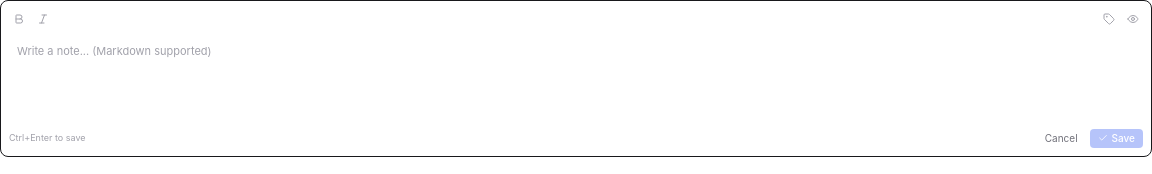
it: NoteEditor › toolbar buttons › inserts bold markers at cursor if no selection
The width and height of the screenshot is (1152, 174).
Type "test" into the text box with placeholder "Write a note... (Markdown supported)" at (576, 79), box x1=9 y1=37 x2=1143 y2=120
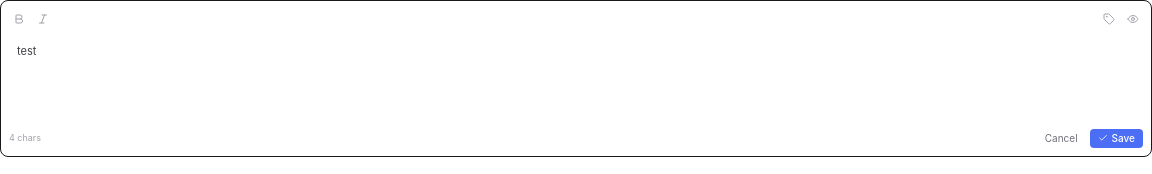
Click the button titled "Bold" at (19, 19), box x1=9 y1=9 x2=29 y2=29
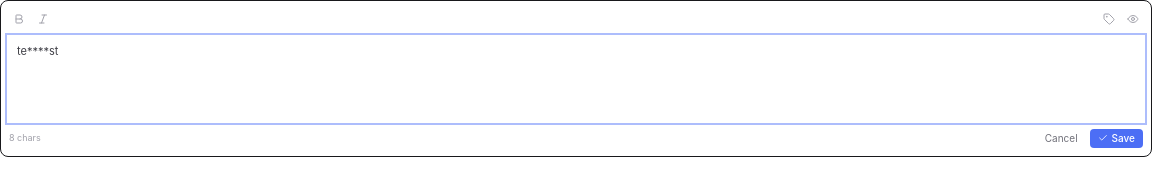
Result: the text box with placeholder "Write a note... (Markdown supported)" holds "te****st" at x1=9 y1=37 x2=1143 y2=120
